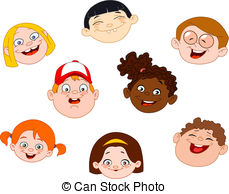face: (113, 49, 177, 117), (46, 59, 103, 121), (162, 14, 227, 67), (170, 115, 228, 172), (72, 1, 141, 47), (4, 117, 61, 167), (87, 132, 144, 181), (1, 22, 58, 68)
